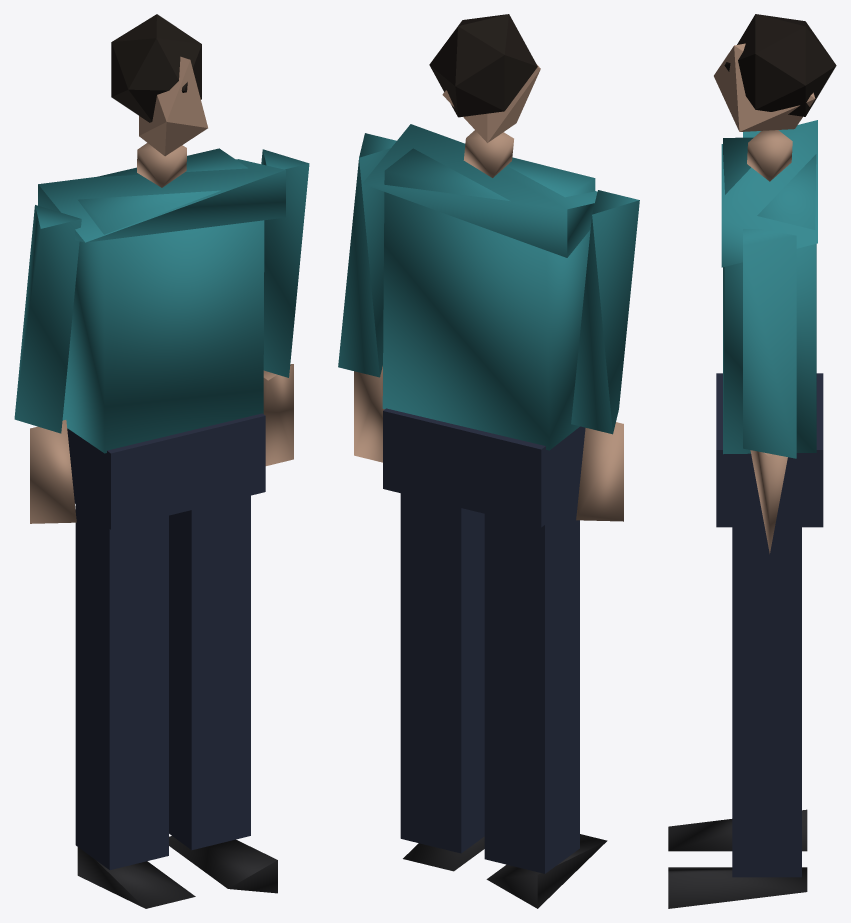
File: person_standing_a_LOD1.glb
The picture shows the model from 3 angles, left to right: view 1: azimuth 30°, elevation 25°; view 2: azimuth 150°, elevation 25°; view 3: azimuth 270°, elevation 25°; orthographic projection. The views are drawn at different scales.
Visible parts, largest first — view 1: Body_LOD1; view 2: Body_LOD1; view 3: Body_LOD1.
Boxes of the visible parts, box(x1,y1,x2,y2) form: Body_LOD1: box(14, 14, 309, 908); Body_LOD1: box(338, 14, 639, 908); Body_LOD1: box(668, 14, 836, 908).
Bounding box in the file's own units: 0.59 × 1.77 × 0.315.
